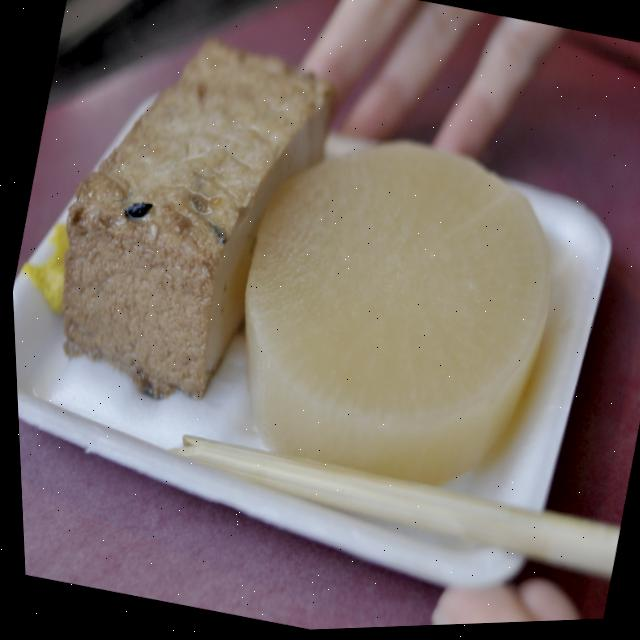汤锅炖物: (168, 41, 599, 509)
